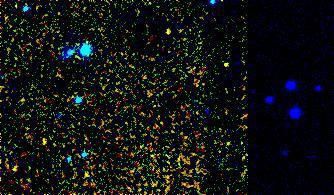star: (216, 45, 246, 75)
